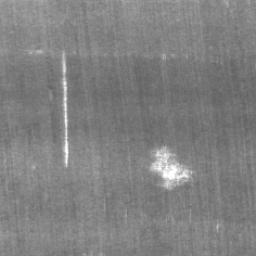Bright scratch: (149, 149, 192, 190), (62, 57, 68, 165)
